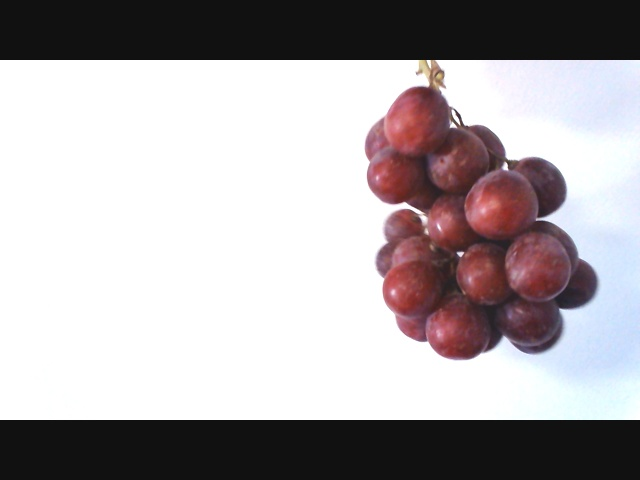grape: (349, 97, 598, 354)
